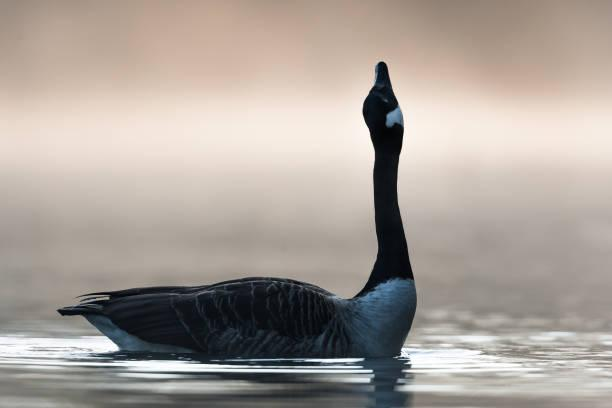Canadian-Goose: (58, 60, 421, 357)
